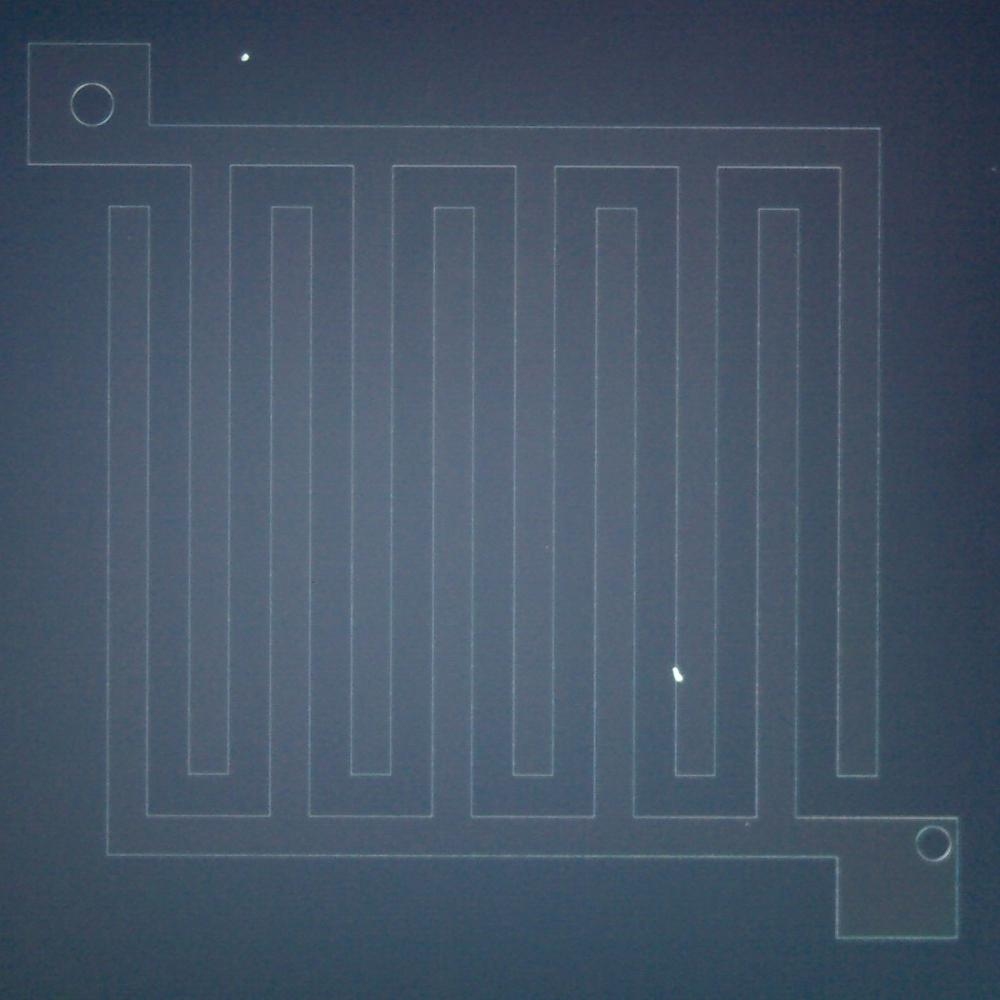dot: (671, 666, 685, 682), (241, 53, 250, 62), (745, 822, 749, 826)
